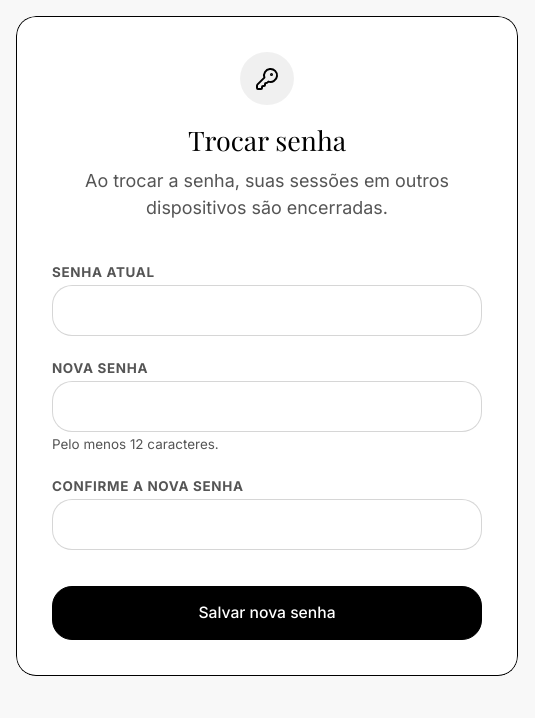
Test: ChangePasswordForm › nova senha igual à atual é barrada antes de enviar
Type "mesma-senha-longa" into the password field labelled "Senha atual". click: [267, 310]
box: [52, 285, 482, 336]
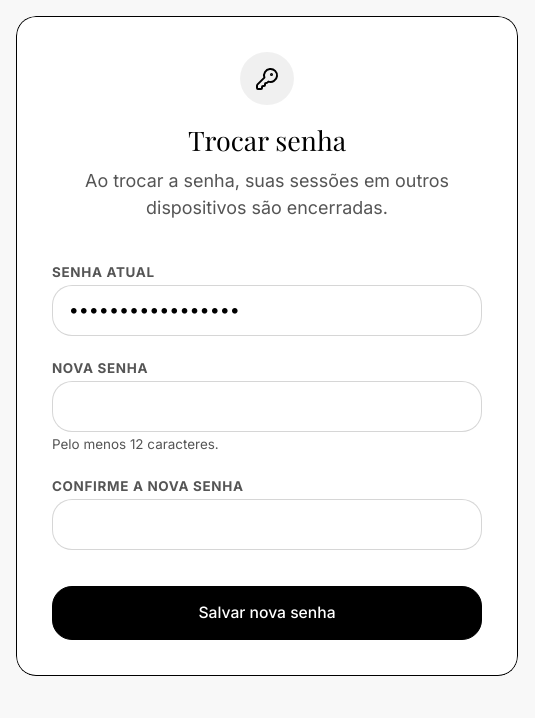
Type "mesma-senha-longa" into the password field labelled "Nova senha". click: [267, 406]
box: [52, 381, 482, 432]
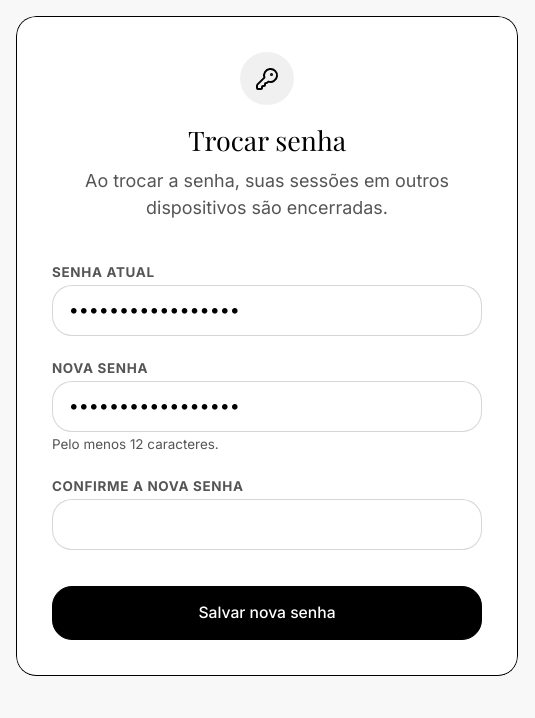
Type "mesma-senha-longa" into the password field labelled "Confirme a nova senha". click: [267, 525]
box: [52, 499, 482, 550]
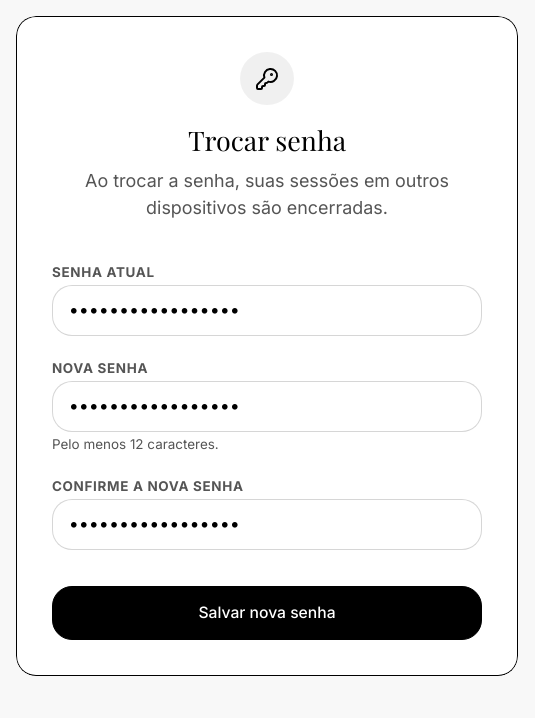
Click the button "Salvar nova senha". click: [267, 613]
box: [52, 586, 482, 640]
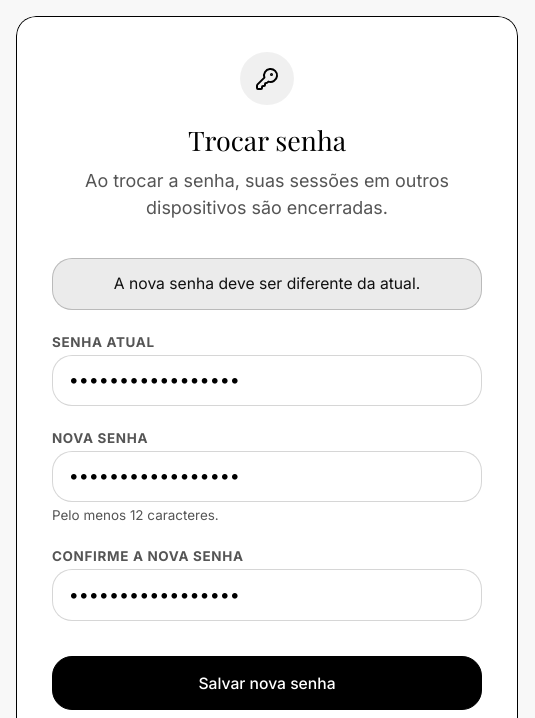
Expected: the message shows "diferente da atual", [114, 274, 420, 293]
